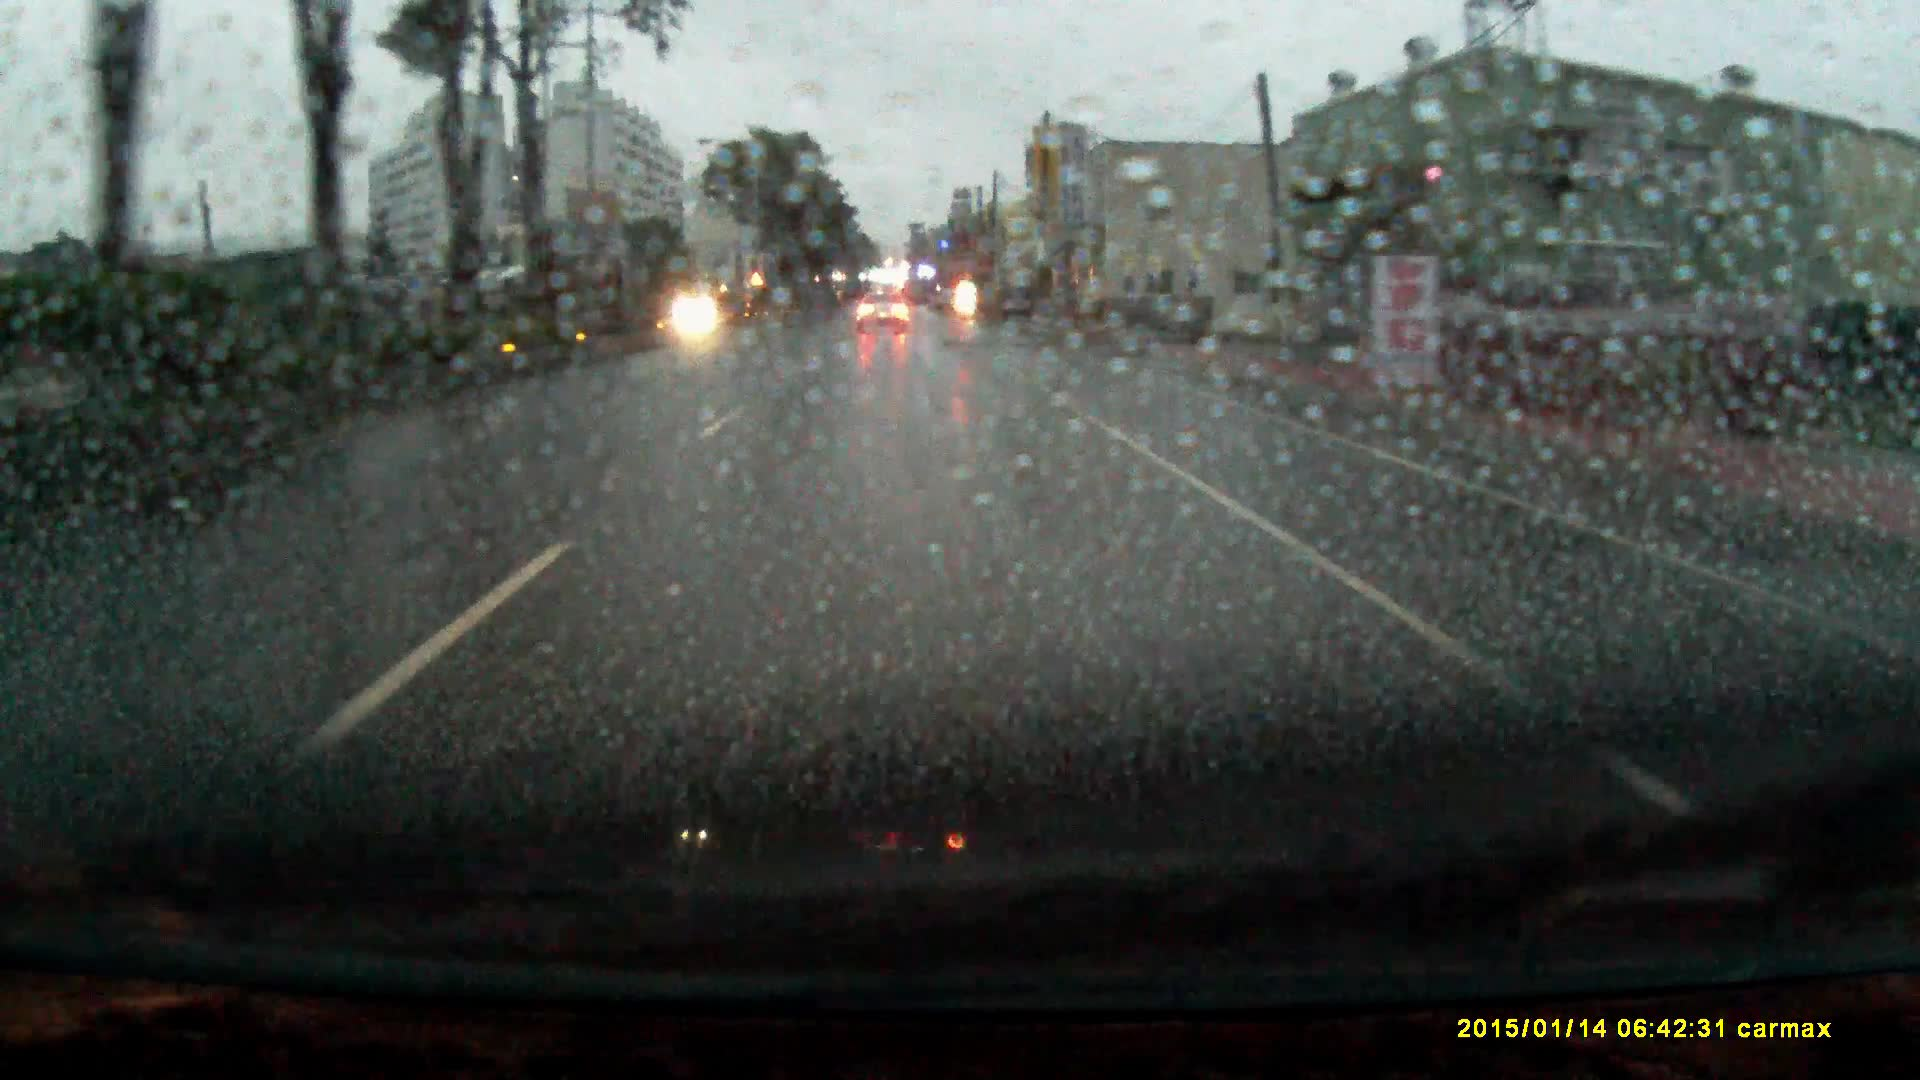vehicle: (856, 298, 909, 342)
